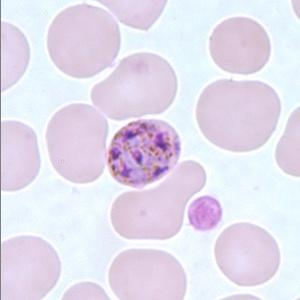Infected: (107, 119, 183, 187)
Uninfected: (112, 161, 207, 241), (193, 79, 278, 152), (89, 52, 176, 118), (47, 3, 119, 78), (45, 102, 105, 183), (212, 219, 278, 287), (0, 235, 60, 300), (107, 251, 186, 300), (210, 16, 268, 73), (0, 122, 42, 195)
